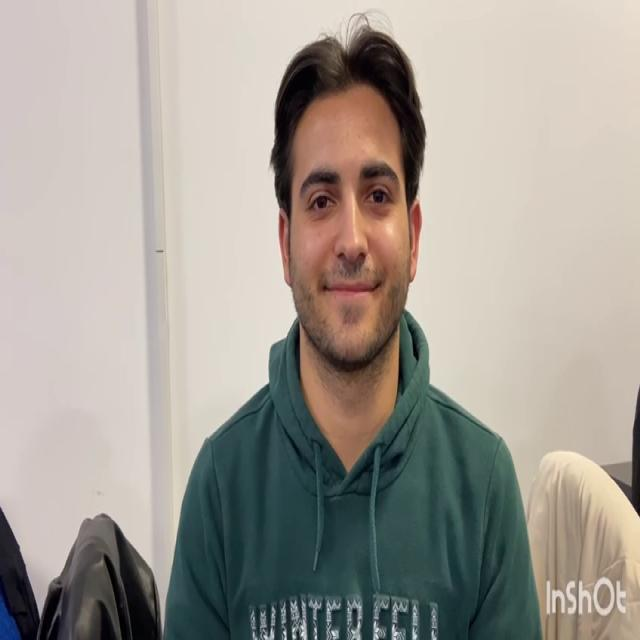happy: (276, 82, 420, 357)
